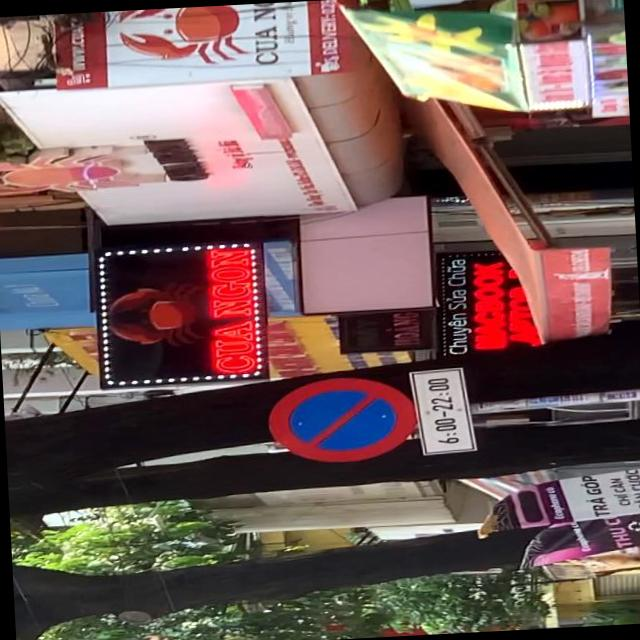P-131a: (266, 372, 416, 466)
